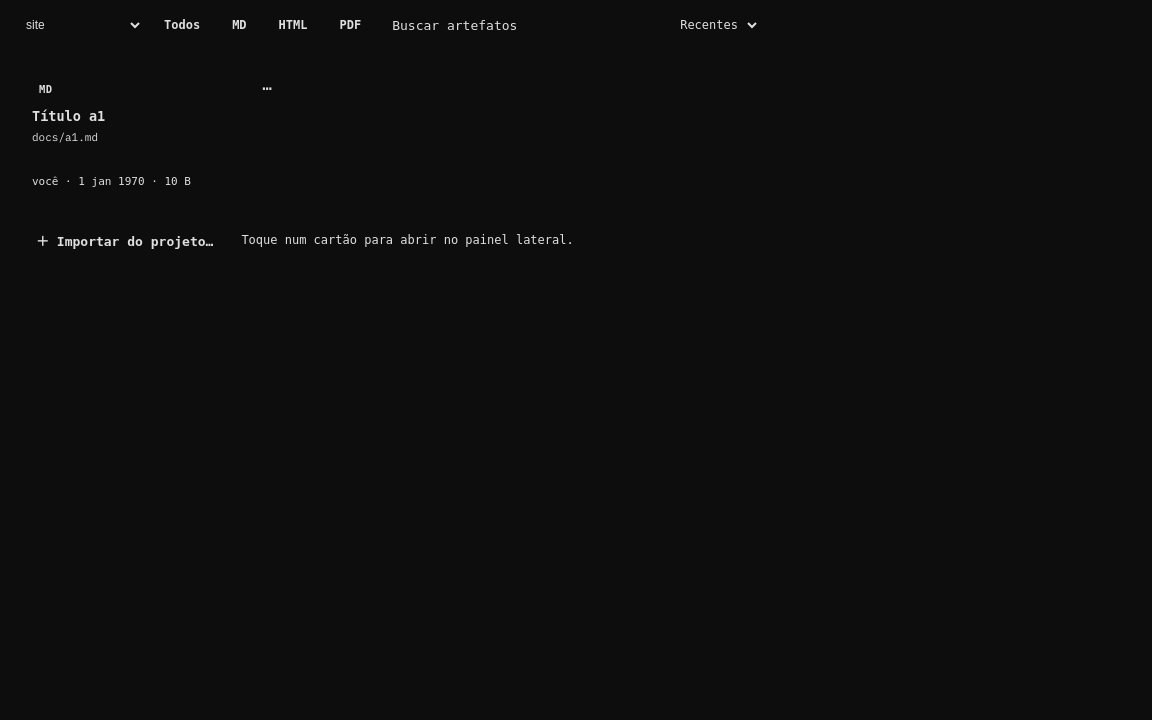
Scenario: Importar do projeto › sucesso parcial: os que falharam ficam no modal com o motivo
Click the button "＋ Importar do projeto…" at point(125, 240), box x1=20 y1=220 x2=229 y2=260
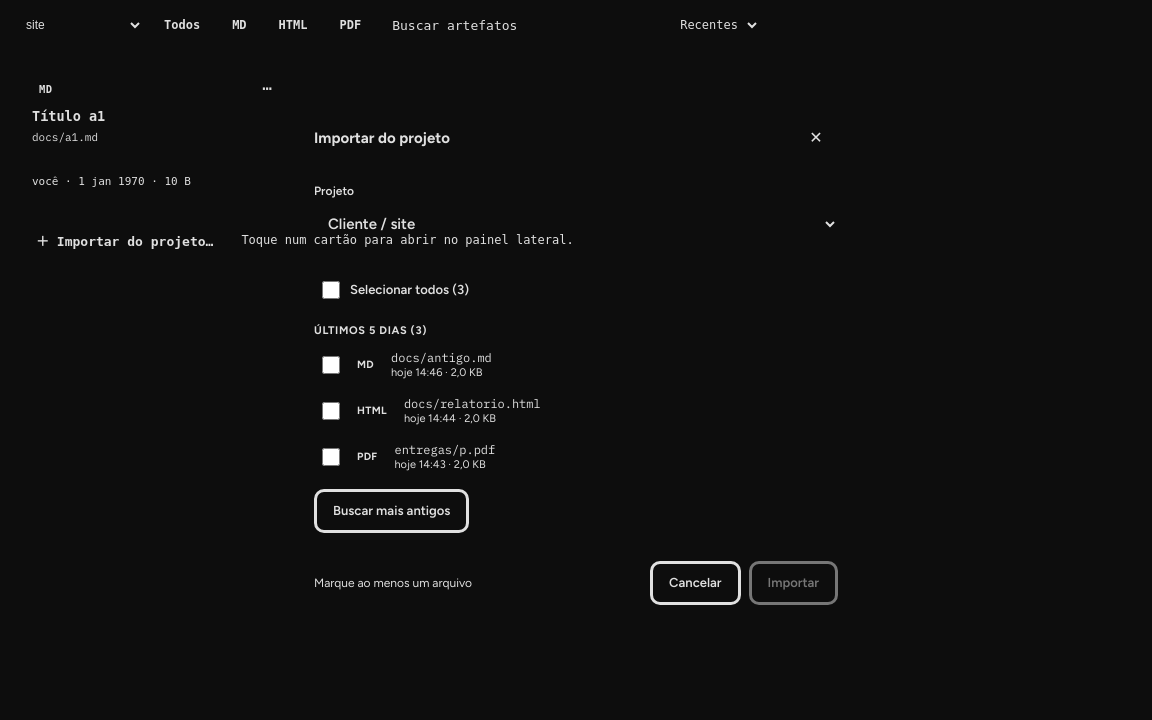
Click the text "docs/antigo.md" at point(441, 358), box x1=391 y1=350 x2=492 y2=365
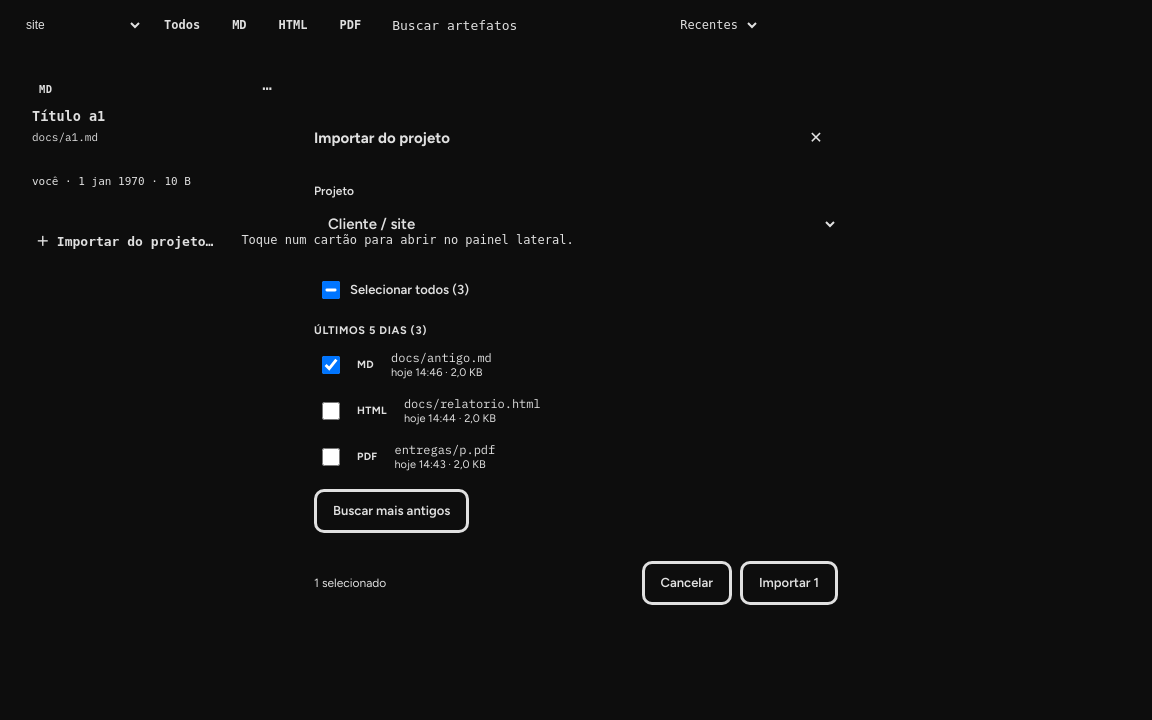
Click the text "docs/relatorio.html" at point(472, 404), box x1=404 y1=396 x2=541 y2=411
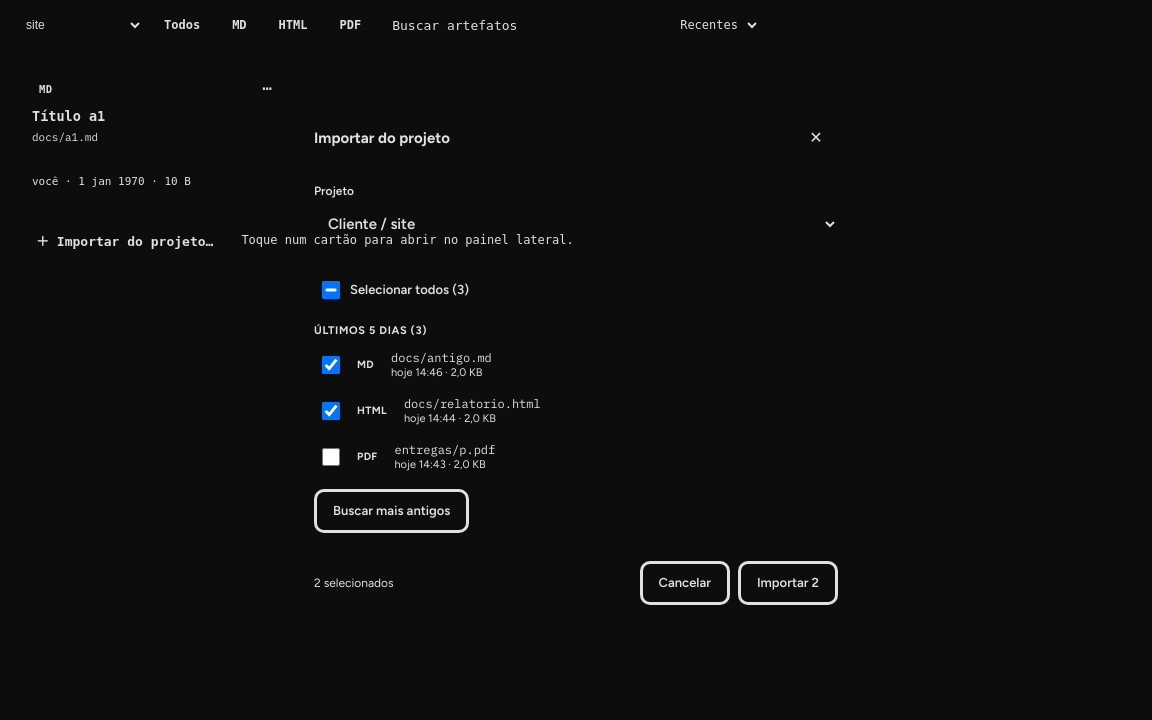
Click the button "Importar 2" at point(788, 582), box x1=738 y1=560 x2=838 y2=604
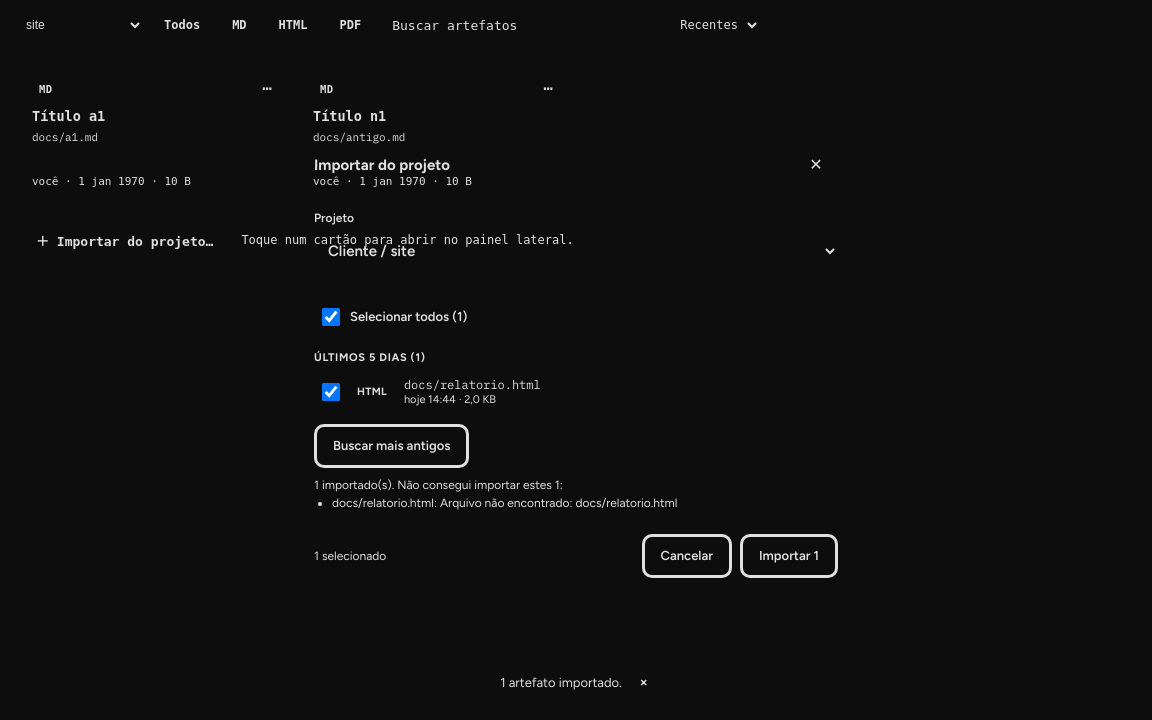
Result: the element with test id "import-artifacts-modal" is shown at x1=296 y1=126 x2=856 y2=594
Result: the message shows "Arquivo não encontrado: docs/relatorio.html" at x1=440 y1=496 x2=677 y2=510
Result: the button with test id "artifact-card-n1" is shown at x1=301 y1=66 x2=570 y2=198
